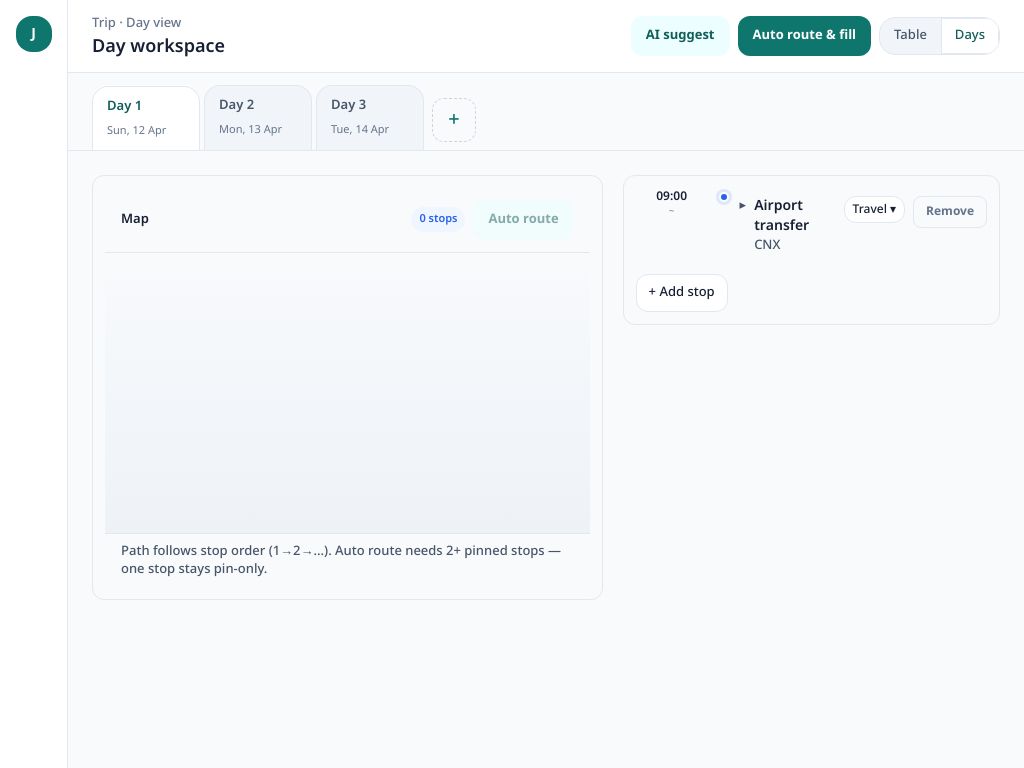
it: DayWorkspacePage Plan Day folder tabs › shows one folder tab per Plan Day from startDate–endDate and selecting a tab scopes the canvas to that day's stops
This screenshot has width=1024, height=768.
expect the tab "Day 1 Sun, 12 Apr" is shown: met, box x1=92 y1=86 x2=200 y2=150
expect the tab "Day 3 Tue, 14 Apr" is shown: met, box x1=316 y1=85 x2=424 y2=150
Click the tab "Day 2 Mon, 13 Apr" at point(258, 117), box x1=204 y1=85 x2=312 y2=150
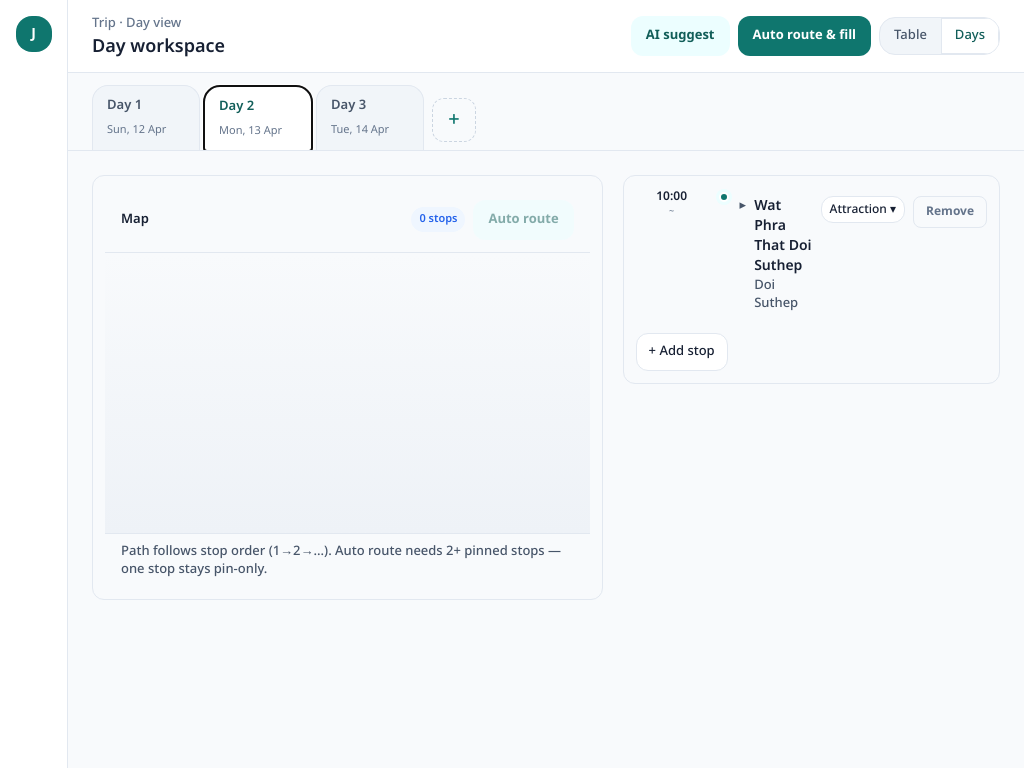
expect the text "Wat Phra That Doi Suthep" is shown: met, box x1=754 y1=196 x2=812 y2=276
expect the heading "Airport transfer" is gone: met
